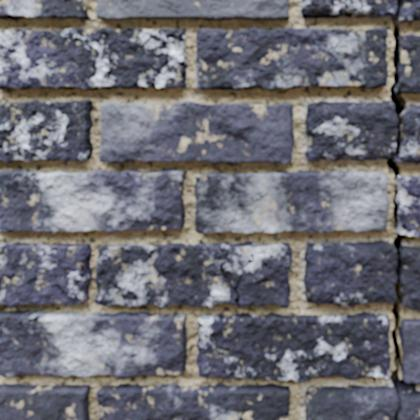brick: (196, 312, 389, 381), (0, 310, 186, 378), (95, 242, 291, 306), (195, 171, 388, 233), (196, 28, 387, 89), (100, 102, 293, 162), (0, 170, 184, 232), (0, 28, 186, 89), (97, 384, 288, 419), (0, 243, 91, 306), (0, 100, 92, 161), (97, 0, 288, 19), (0, 384, 89, 419), (0, 0, 87, 18), (397, 177, 419, 236), (398, 35, 419, 93), (401, 319, 419, 383), (0, 170, 30, 180)
broken_brick: (303, 240, 395, 307), (304, 100, 396, 161), (305, 384, 397, 419), (301, 0, 395, 19), (398, 103, 419, 163), (402, 245, 419, 310), (399, 390, 419, 419), (400, 0, 419, 22)
crack: (385, 0, 418, 419), (217, 253, 254, 307), (0, 315, 42, 337), (53, 283, 83, 304), (0, 171, 42, 184), (194, 188, 199, 196)
